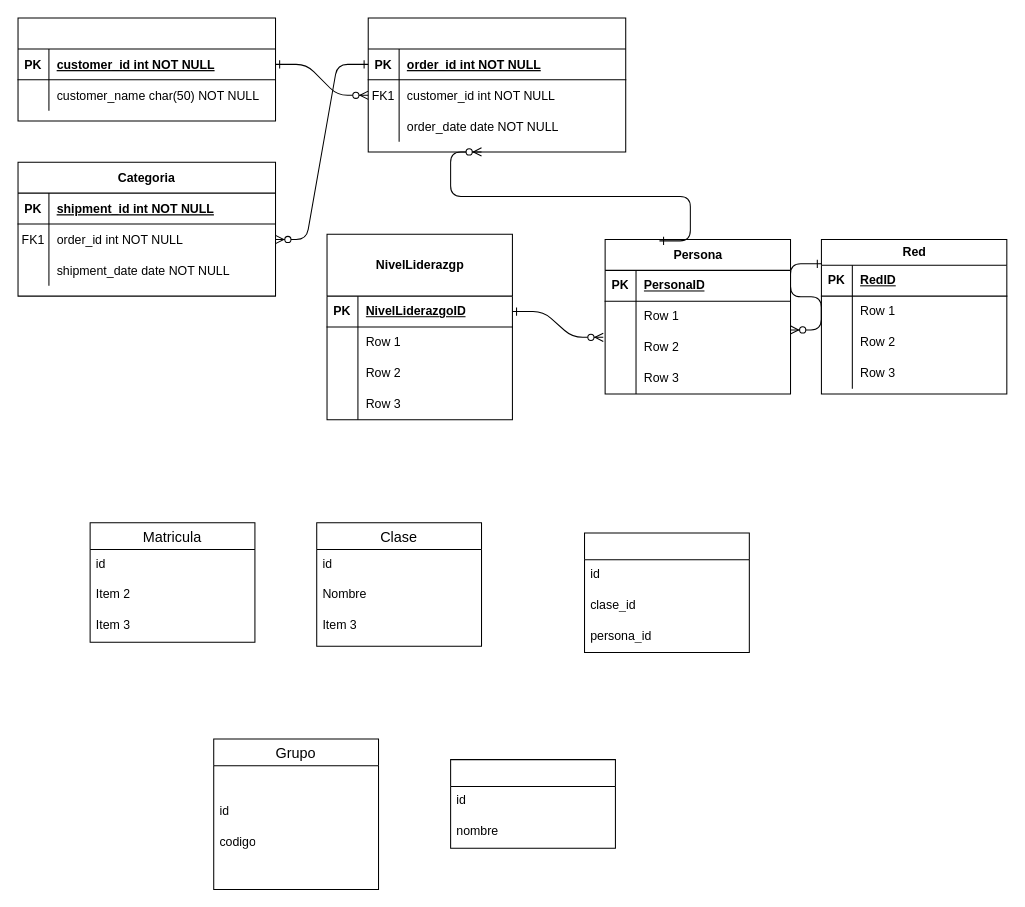
Image size: 1025x907. Some labels were removed from this diagram. Each missing label, with the box of its shape:
Clases_Personas: (583, 532, 749, 653)
Evento: (17, 17, 276, 121)
Niveles: (450, 759, 615, 848)
Ticket: (367, 17, 626, 152)
